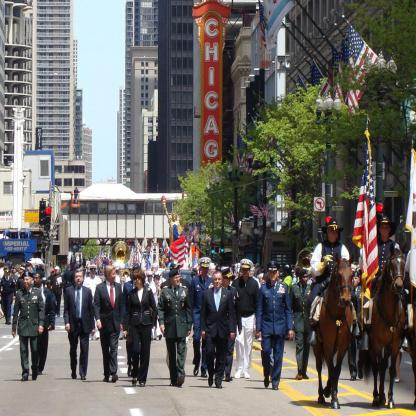face: (329, 225, 339, 242), (381, 222, 390, 236), (76, 273, 85, 285), (270, 270, 279, 282), (214, 276, 222, 289), (24, 277, 32, 288), (174, 275, 182, 286), (203, 265, 210, 277), (352, 277, 360, 287), (110, 270, 116, 282), (224, 276, 232, 285), (35, 275, 42, 285), (243, 267, 250, 277), (136, 277, 142, 288), (302, 275, 309, 284), (91, 269, 97, 277), (155, 277, 160, 285), (120, 268, 125, 274), (20, 271, 25, 277), (251, 270, 255, 277), (240, 271, 244, 278), (124, 273, 129, 278), (4, 267, 9, 272), (149, 275, 153, 281), (211, 269, 215, 275), (285, 271, 289, 277), (154, 267, 158, 272), (261, 277, 265, 282), (118, 269, 121, 275), (7, 271, 10, 277), (56, 269, 59, 274), (167, 259, 170, 264), (164, 263, 167, 268), (14, 269, 17, 274), (52, 272, 55, 276), (148, 249, 151, 253), (18, 267, 21, 271), (159, 252, 162, 256), (33, 267, 36, 269)
